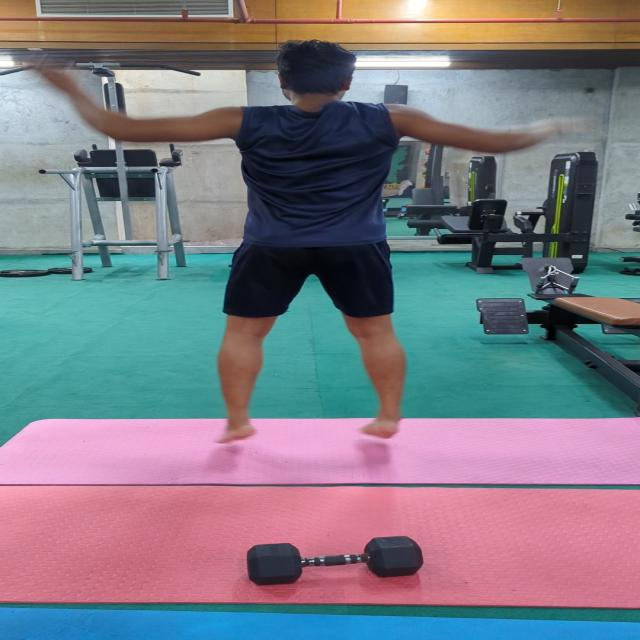Normal_JumpingJacks: (45, 42, 567, 447)
